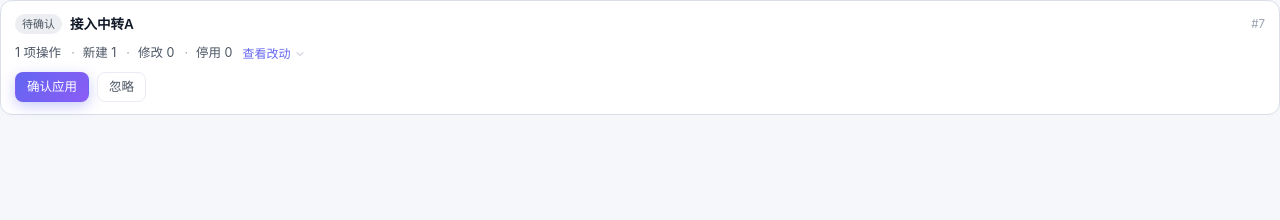
Test: AgentProposalCard › 应用返回 warnings 时必须展示（否则运营以为万事俱备）
The image size is (1280, 220).
Click the button with test id "agent-apply-7": (52, 87) [15, 72, 89, 102]
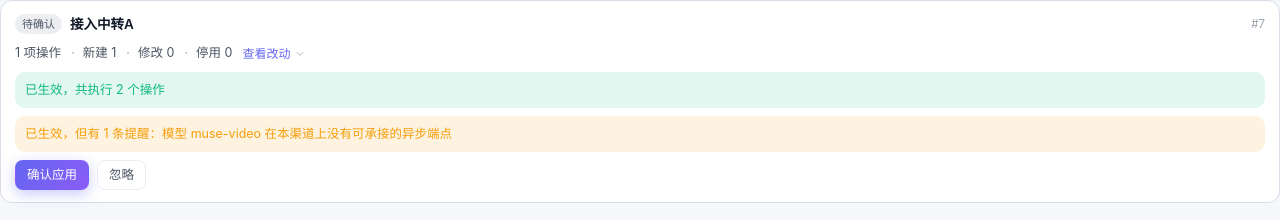
Expected: the text "已生效，但有 1 条提醒：模型 muse-video 在本渠道上没有可承接的异步端点" is shown, [15, 116, 1265, 152]
Expected: the text "已生效，共执行 2 个操作" is shown, [15, 72, 1265, 108]
